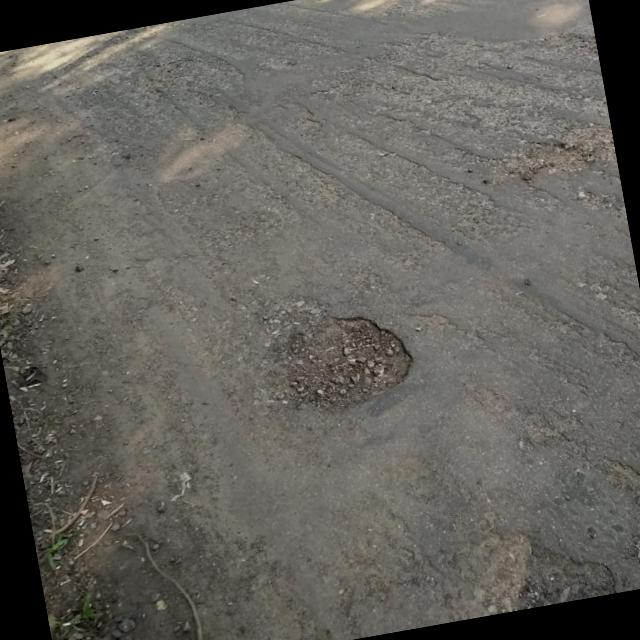Lubang: (260, 302, 411, 406)
